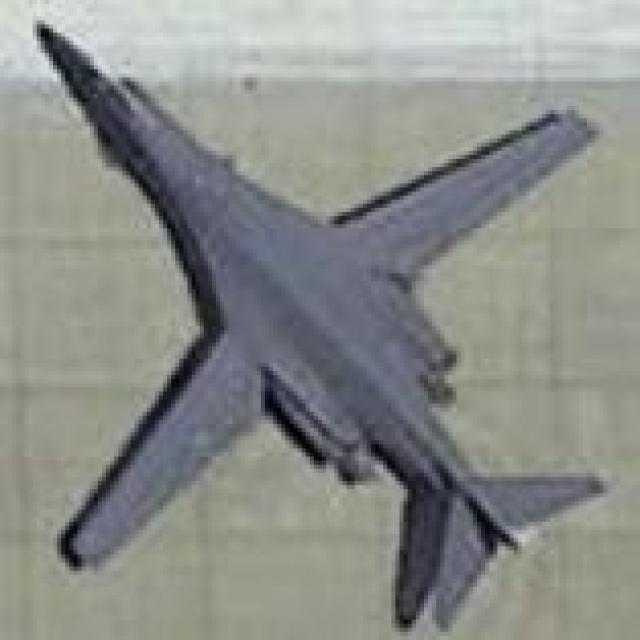B-1_TopDown: (29, 12, 608, 632)
